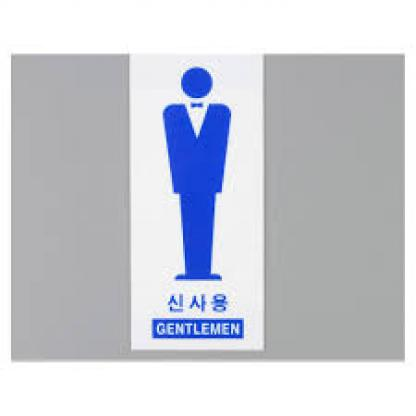toilet: (165, 66, 229, 287)
